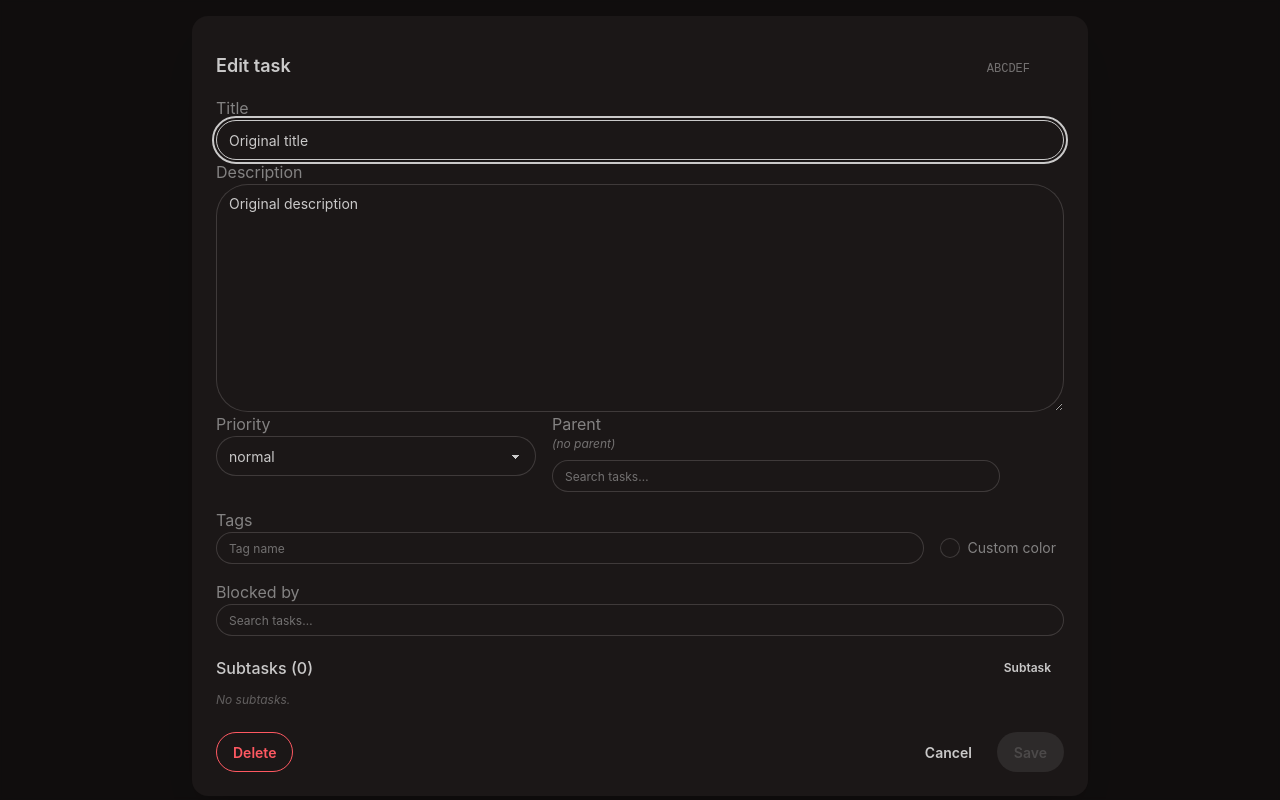
TaskEditModal dirty tracking › opens the discard-confirm dialog when Cancel is pressed with dirty edits
Replace the text in the field labelled "Title" with "Edited title" at [640, 140], box [216,120,1064,160]
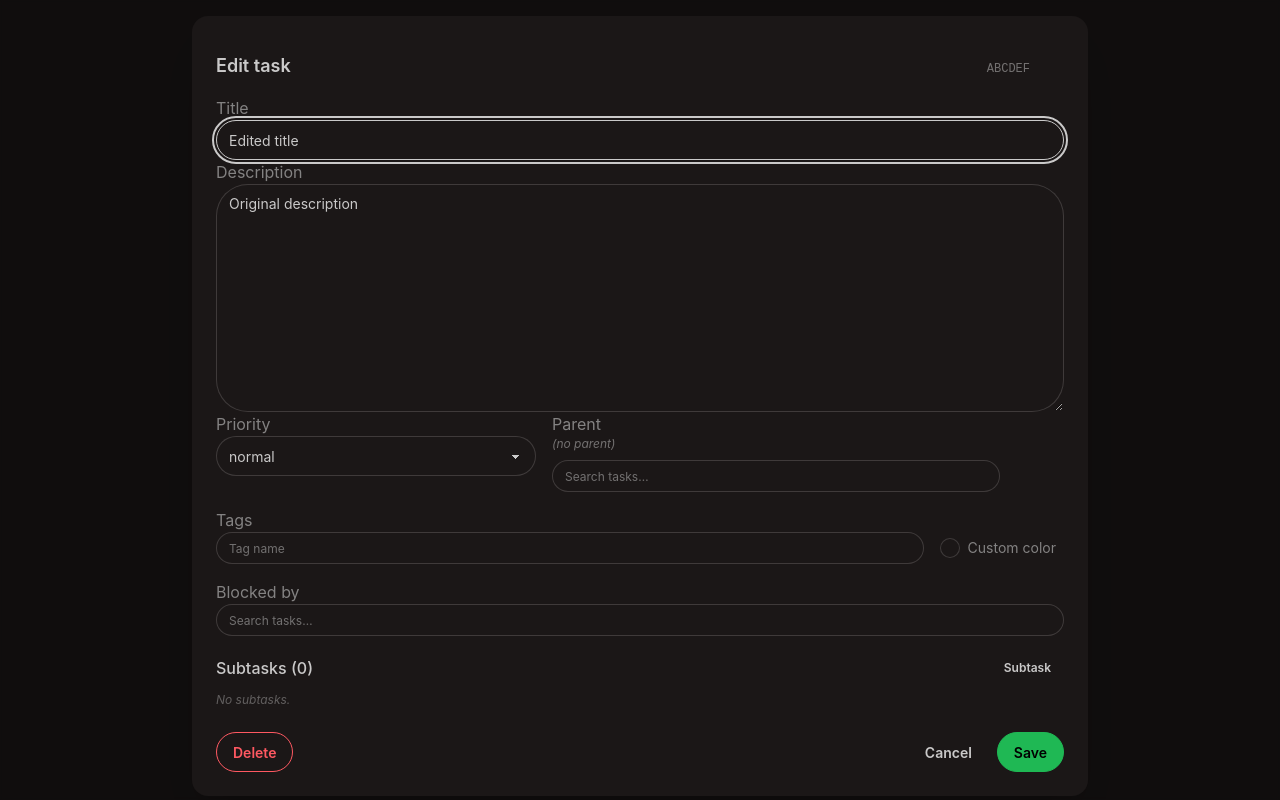
Click the button "Cancel" at [948, 752], box [908,732,989,772]
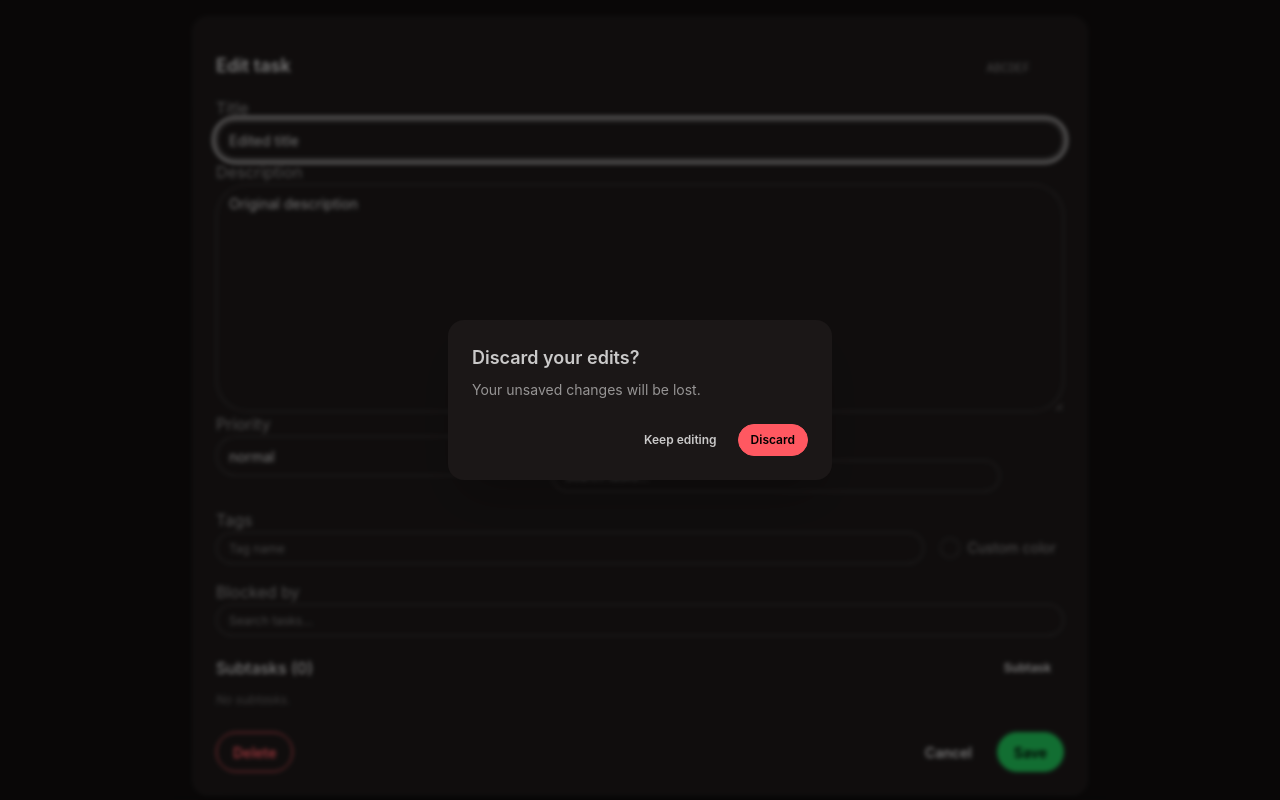
Expected: the heading "Discard your edits?" is shown, [472,347,640,368]
Expected: the button "Discard" is shown, [738,424,808,456]
